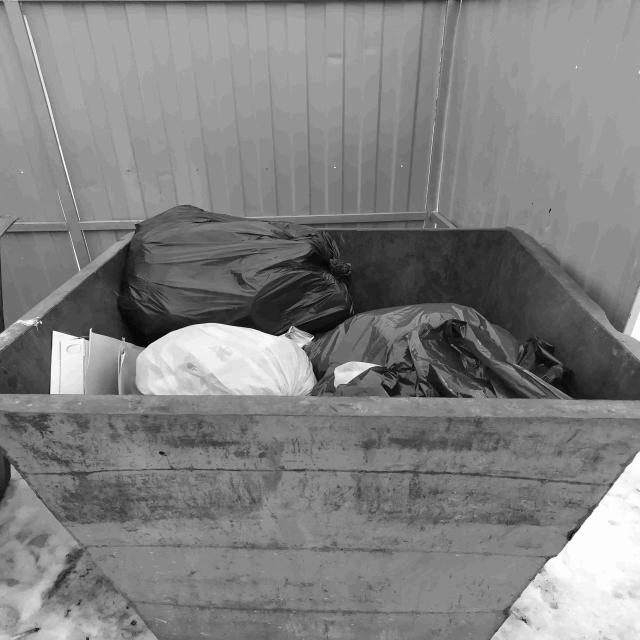Trashcan: (0, 145, 635, 640)
